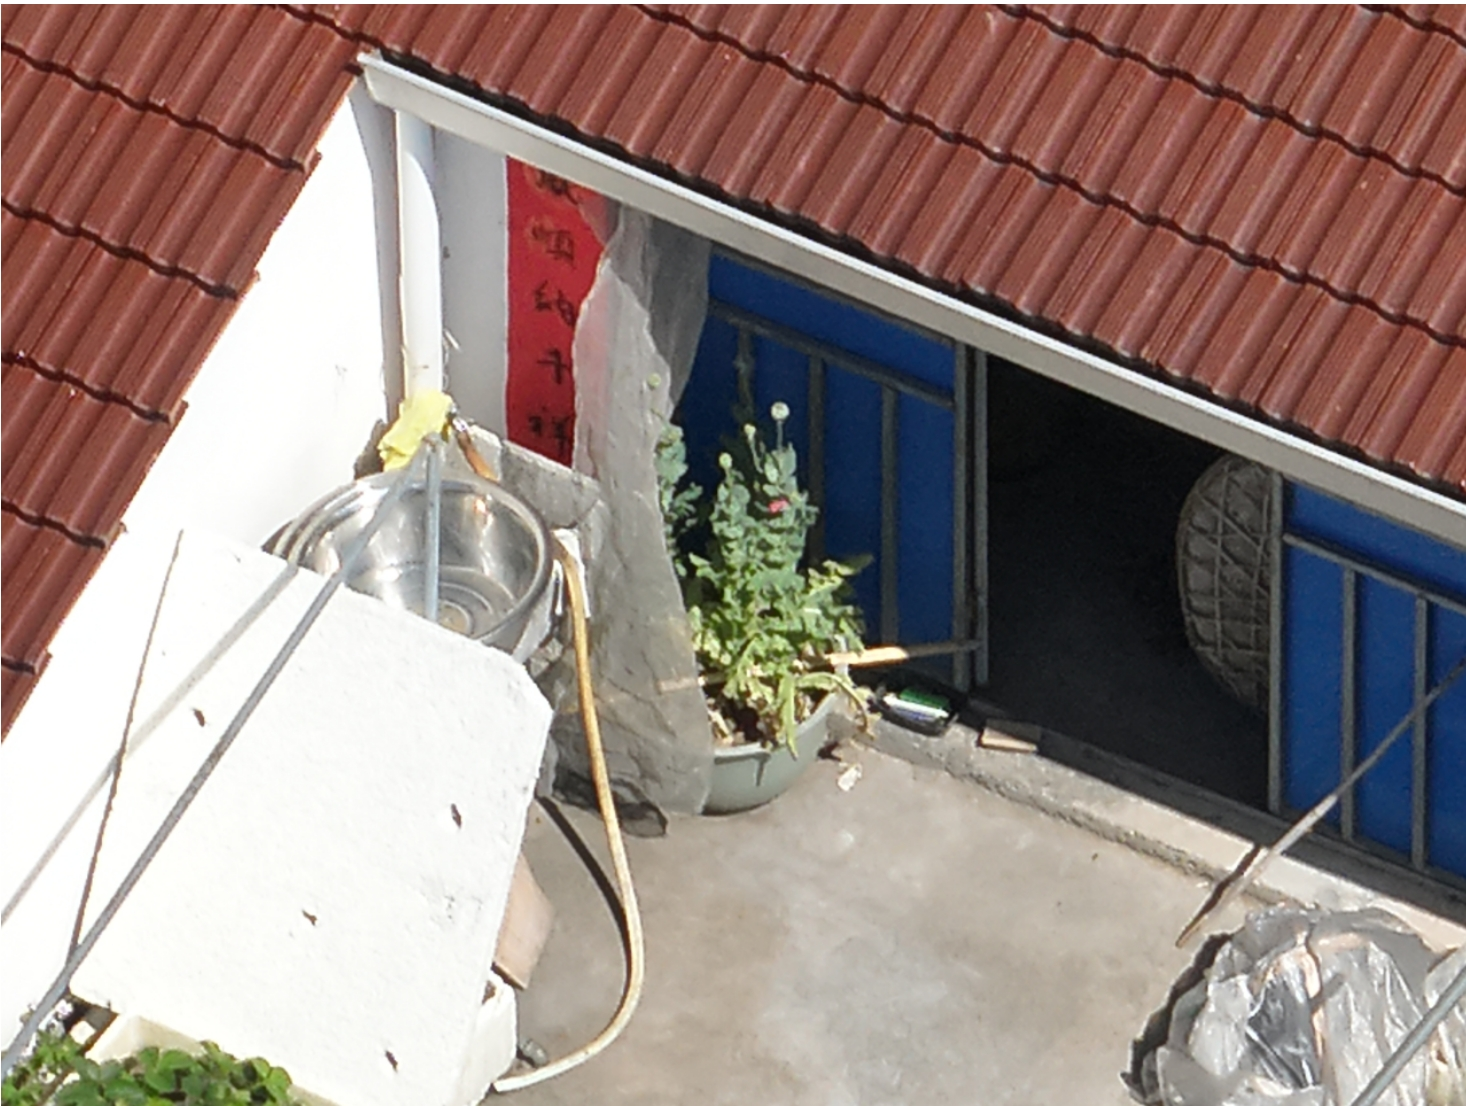Poppy: (654, 362, 903, 757)
